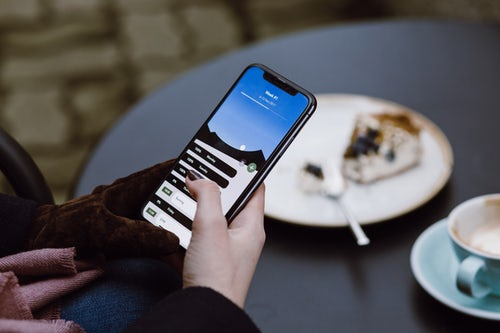phone: (143, 63, 320, 252)
